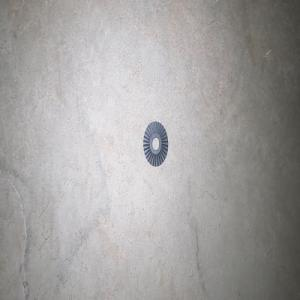Washer: (143, 121, 168, 166)
